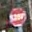stop: (8, 6, 27, 26)
